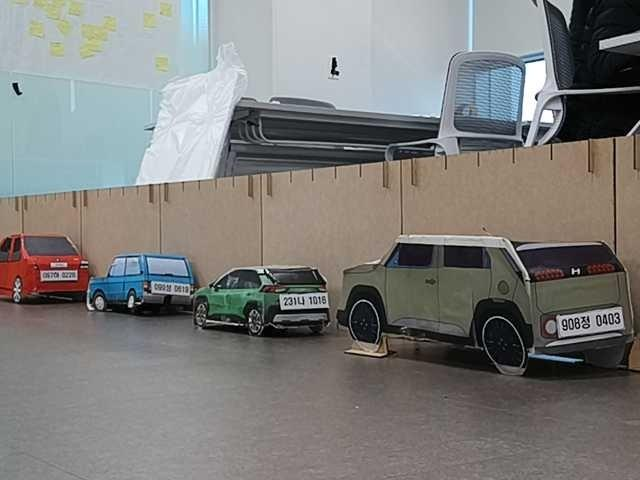car: (337, 233, 636, 377), (194, 264, 333, 338), (87, 253, 196, 314), (0, 232, 91, 303)
id: (554, 307, 626, 338), (280, 293, 331, 309), (151, 280, 190, 296), (39, 270, 78, 281)
